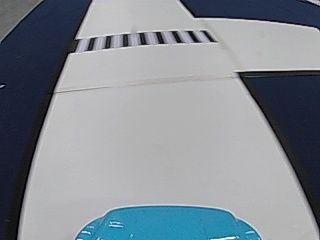CrossWalk: (78, 29, 214, 51)
